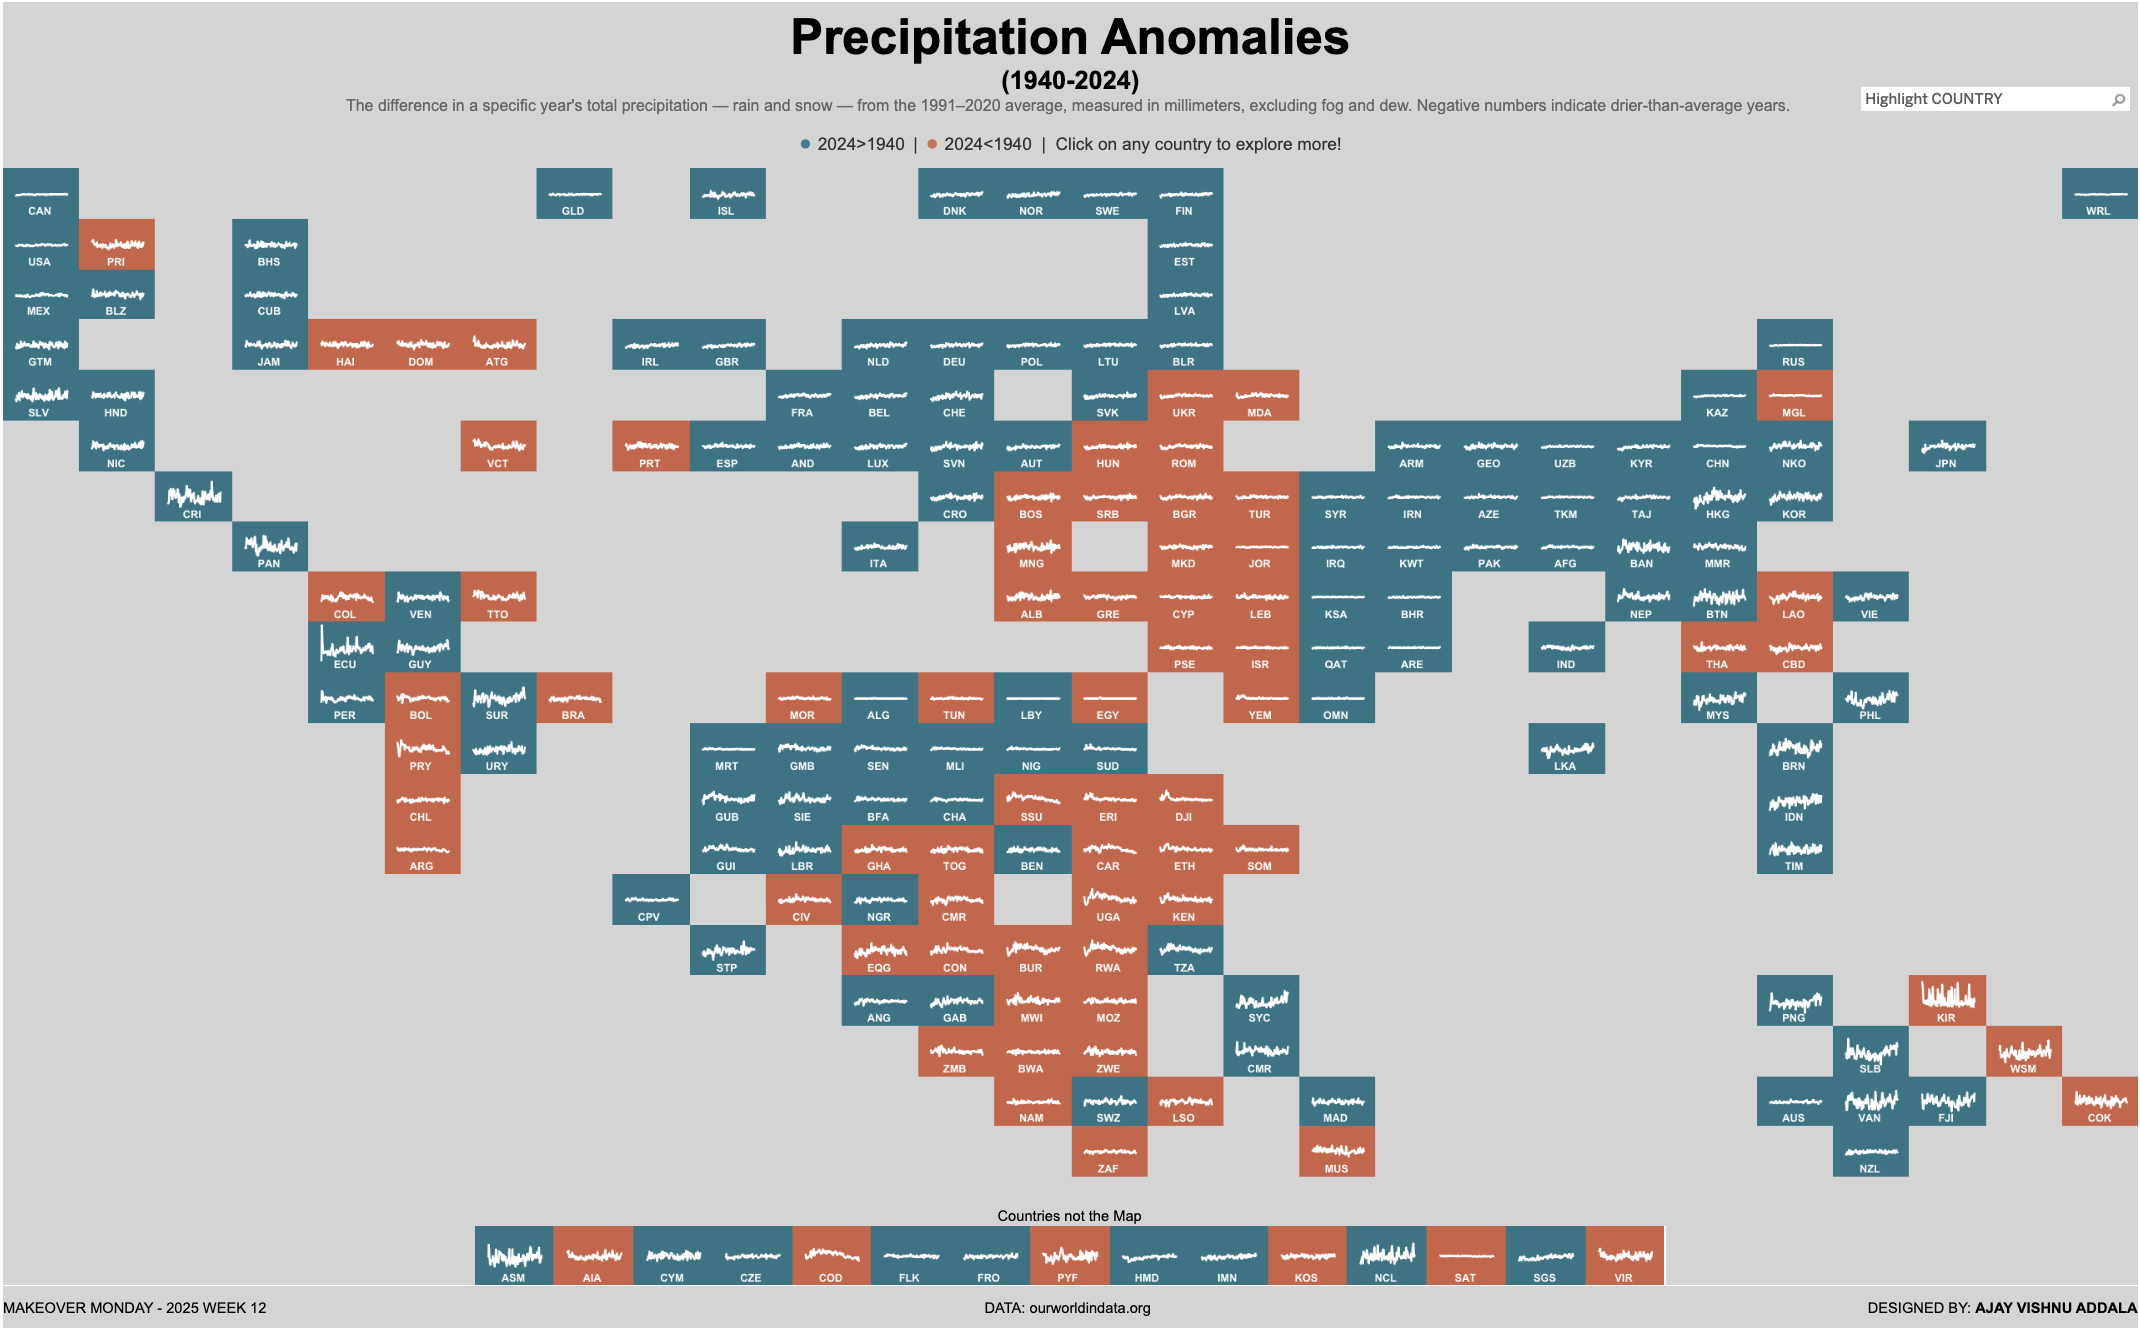

Layout of this report page (visuals, bound fields, positions):
{"tool":"tableau","page":{"name":"MOM 2025 W12","canvas":[1613,1000],"ordinal":0},"visuals":[{"type":"text","box":[2,2,1609,92]},{"type":"highlighter","title":"World Map","param":"[federated.1slvorh0c18erf1cxm8kz0yqpfh8].[none:Entity:nk]","box":[1398,67,205,24]},{"type":"worksheet","title":"World Map","mark":"Line","rows":["Row","Calculation_2284450969547735040","Annual precipitation anomaly"],"cols":["Col","Year"],"box":[2,94,1609,828]},{"type":"worksheet","title":"By Country","mark":"Bar","rows":["Calculation_2284450969569894408","Calculation_2284450969570050057"],"cols":["Year"],"box":[255,213,1085,712]},{"type":"text","box":[749,899,114,30]},{"type":"worksheet","title":"Missing","mark":"Line","rows":["Row","Calculation_2284450969547735040","Annual precipitation anomaly"],"cols":["Col","Year"],"box":[360,922,892,43.6]},{"type":"text","box":[2,965.6,577.3,32.4]},{"type":"text","box":[579.3,965.6,450.7,32.4]},{"type":"blank","box":[1030,965.6,223.4,32.4]},{"type":"text","box":[1253.4,965.6,357.6,32.4]}]}

Visuals, with their boxes in screenshot pixels (x1, y1, x2, y2), scaled from the page's 1613x1000 canvas onto the 2140x1330 screenshot:
text: region(3, 3, 2137, 125)
"World Map" highlighter: region(1855, 89, 2127, 121)
"World Map" worksheet (Line marks): region(3, 125, 2137, 1226)
"By Country" worksheet (Bar marks): region(338, 283, 1778, 1230)
text: region(994, 1196, 1145, 1236)
"Missing" worksheet (Line marks): region(478, 1226, 1661, 1284)
text: region(3, 1284, 769, 1327)
text: region(769, 1284, 1367, 1327)
blank: region(1367, 1284, 1663, 1327)
text: region(1663, 1284, 2137, 1327)
